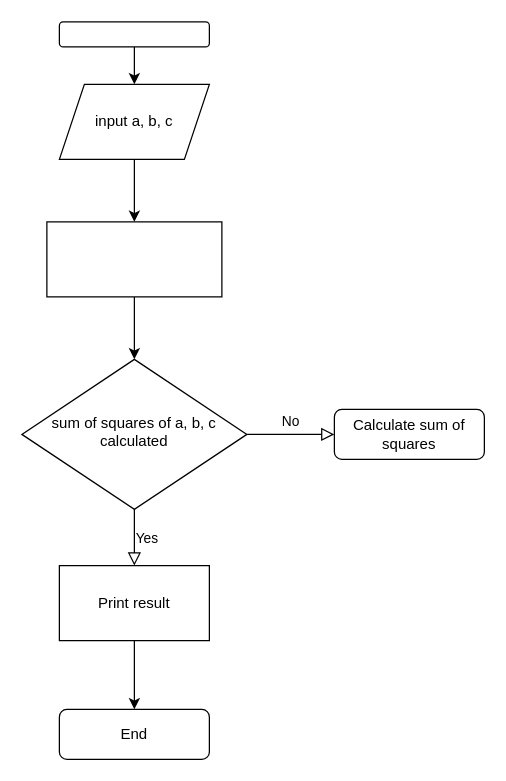
Image size: 506x781. Some labels were removed from this diagram. Each missing label, with the box of its shape:
a 2 + b 2 +c 2 = (a+b+c) 2 -2ab-2bc-2ac: (46, 221, 222, 297)
Start: (58, 21, 209, 47)
